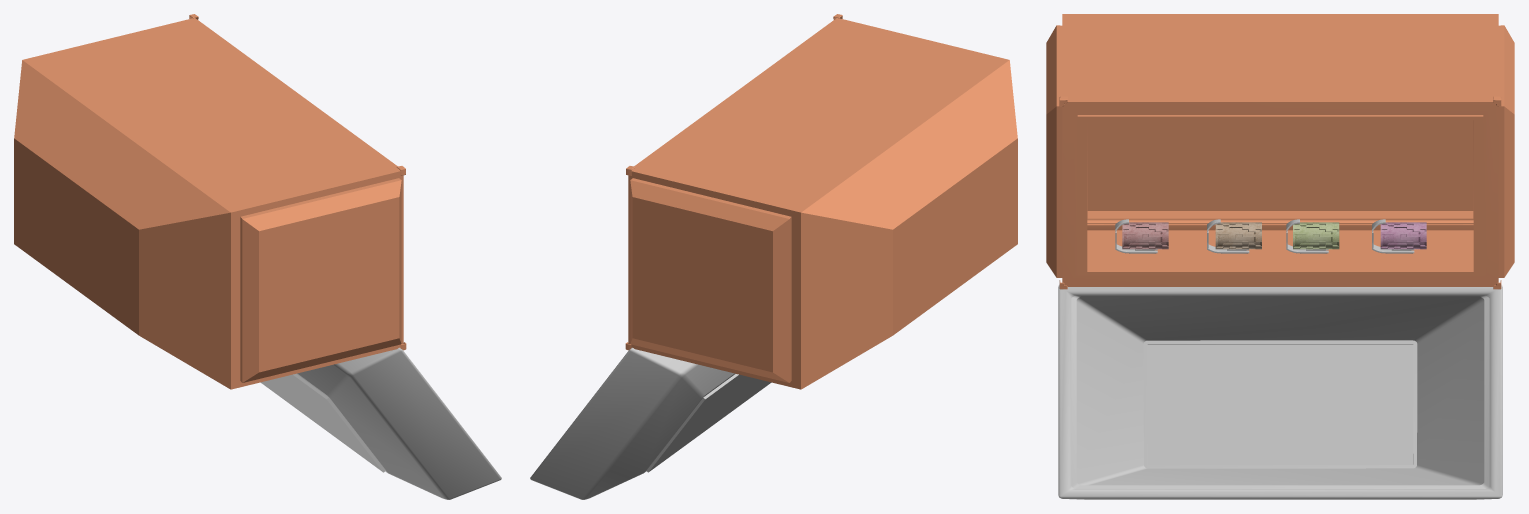
The model's file is Musicbox.fbx.
3 renders of one model, left to right at view 1: azimuth 30°, elevation 25°; view 2: azimuth 150°, elevation 25°; view 3: azimuth 270°, elevation 25°, orthographic. The views are drawn at different scales.
Visible parts, largest first — view 1: Music box, Music box cover; view 2: Music box, Music box cover; view 3: Music box, Music box cover, Base, bobbin 2, bobbin 4, bobbin, bobbin 3.
Part boxes in pixels (x1=…): Music box: x1=14, y1=14, x2=406, y2=389; Music box cover: x1=260, y1=347, x2=501, y2=499; Music box: x1=625, y1=14, x2=1017, y2=389; Music box cover: x1=530, y1=347, x2=771, y2=499; Music box: x1=1046, y1=14, x2=1514, y2=289; Music box cover: x1=1058, y1=285, x2=1502, y2=499; Base: x1=1115, y1=219, x2=1414, y2=253; bobbin 2: x1=1215, y1=222, x2=1261, y2=249; bobbin 4: x1=1380, y1=222, x2=1426, y2=249; bobbin: x1=1122, y1=222, x2=1168, y2=249; bobbin 3: x1=1293, y1=222, x2=1339, y2=249.
Size of the model in its own units: 494 by 525 by 599.
